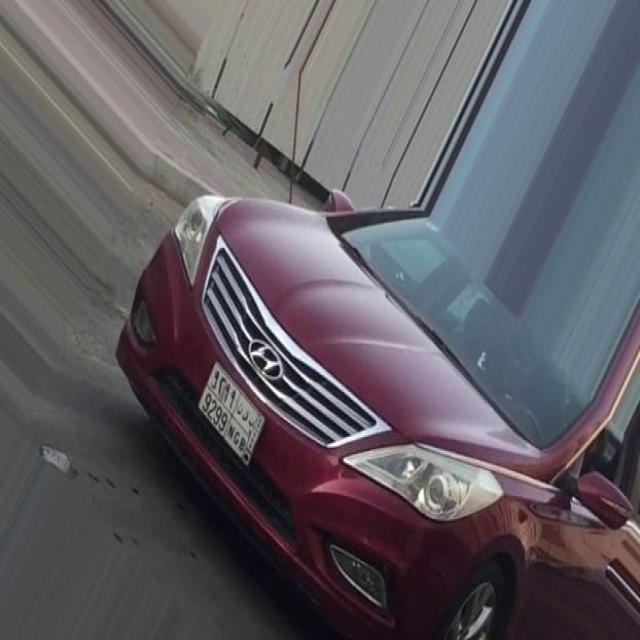Car-plate: (190, 344, 281, 485)
